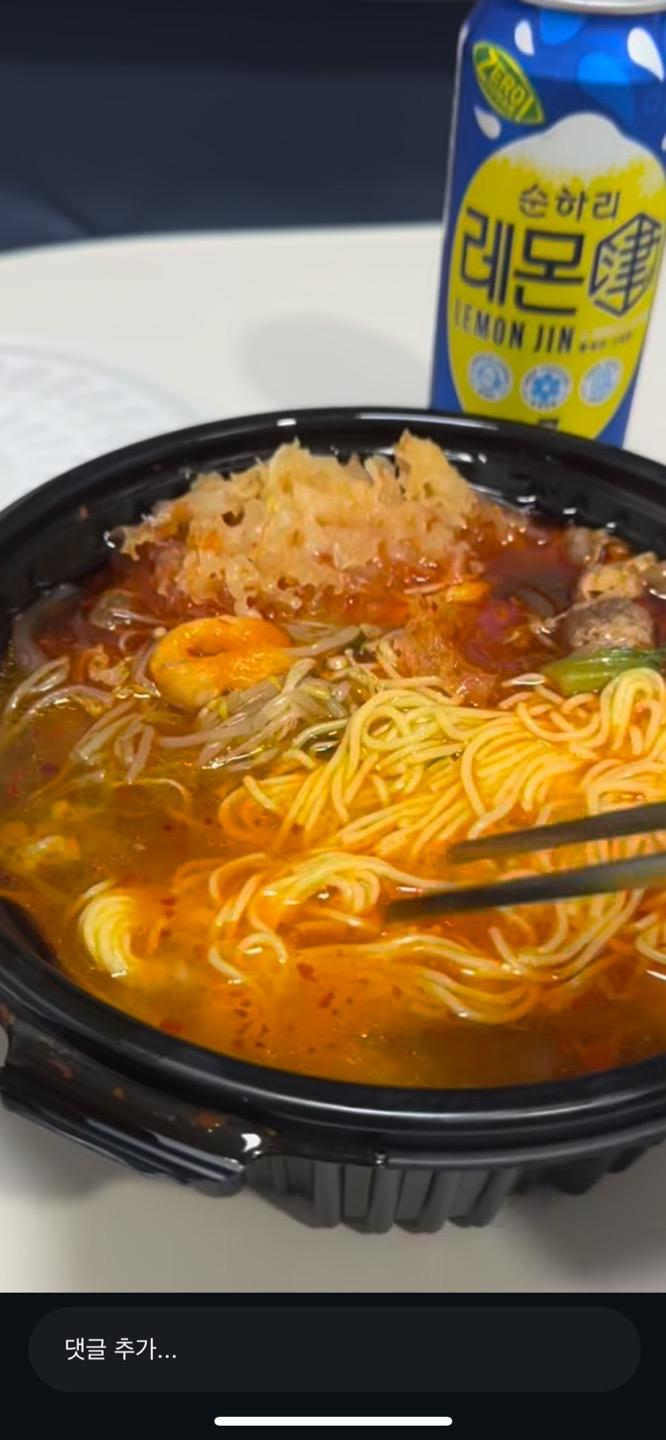Bottle: (431, 0, 665, 443)
Lunch Box: (0, 409, 665, 1233)
